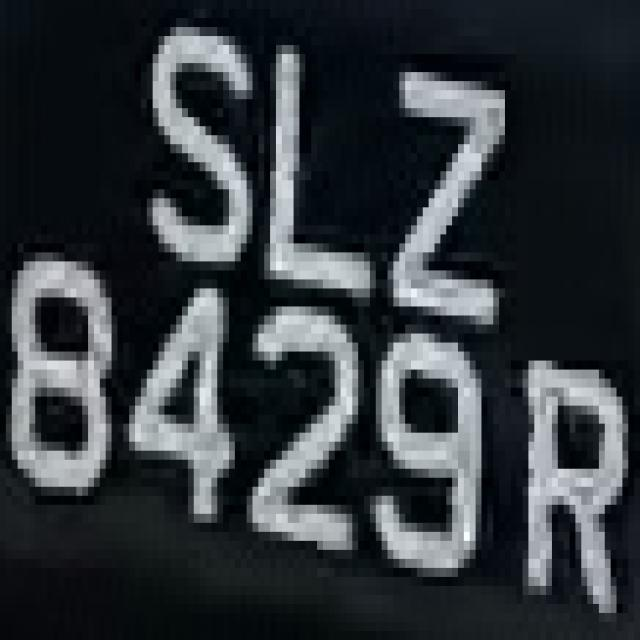2: (229, 261, 376, 550)
4: (123, 252, 235, 550)
8: (12, 216, 123, 514)
9: (370, 315, 487, 586)
L: (258, 36, 376, 316)
R: (528, 334, 628, 631)
S: (135, 27, 253, 279)
Z: (382, 27, 516, 343)
